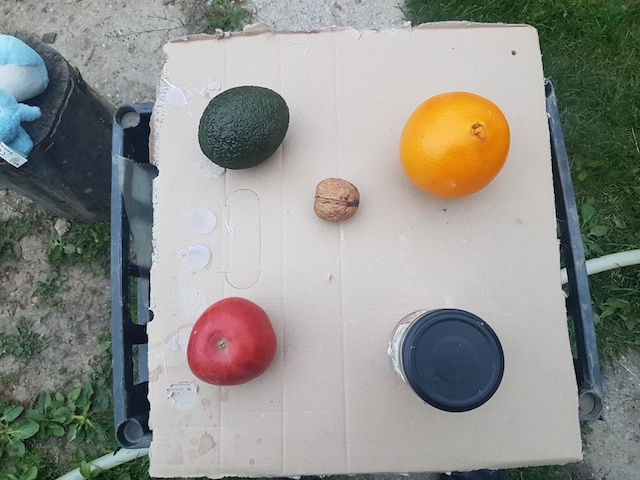apple: (186, 296, 279, 387)
avocado: (194, 83, 293, 170)
nut: (309, 175, 362, 222)
orange: (396, 90, 511, 200)
recipient: (399, 304, 504, 415)
